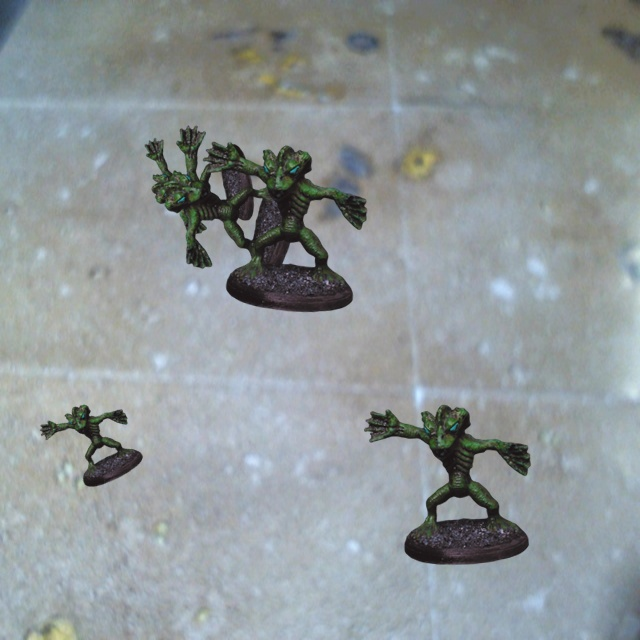pieza_juego: (203, 142, 366, 311), (364, 405, 530, 564), (164, 125, 297, 277), (145, 138, 253, 234), (40, 405, 142, 486)
